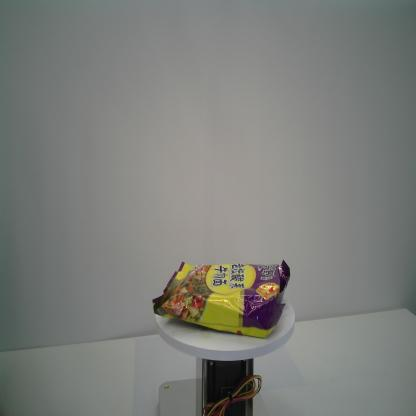Instant Noodles: (152, 259, 292, 340)
